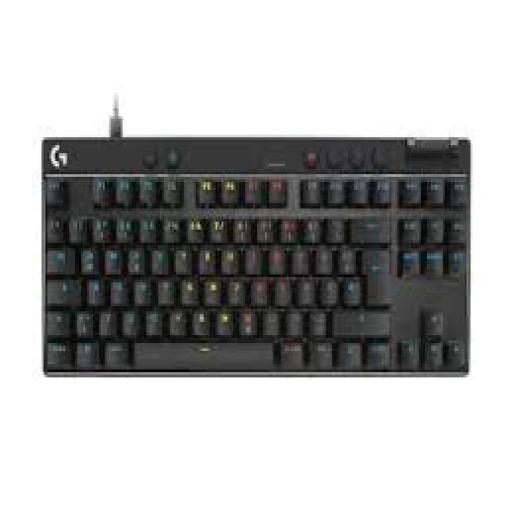keyboard: (40, 116, 470, 375)
